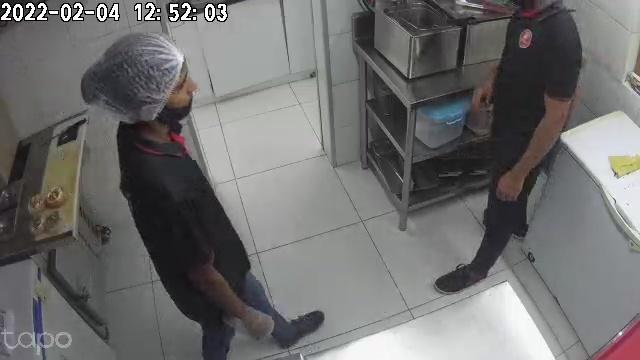no_gloves: (496, 160, 527, 200)
